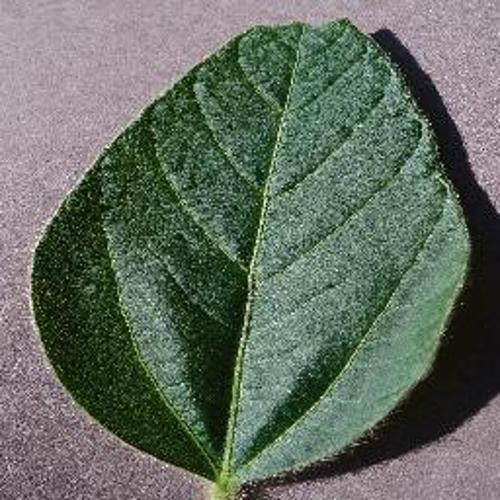Soybean: (32, 19, 472, 500)
